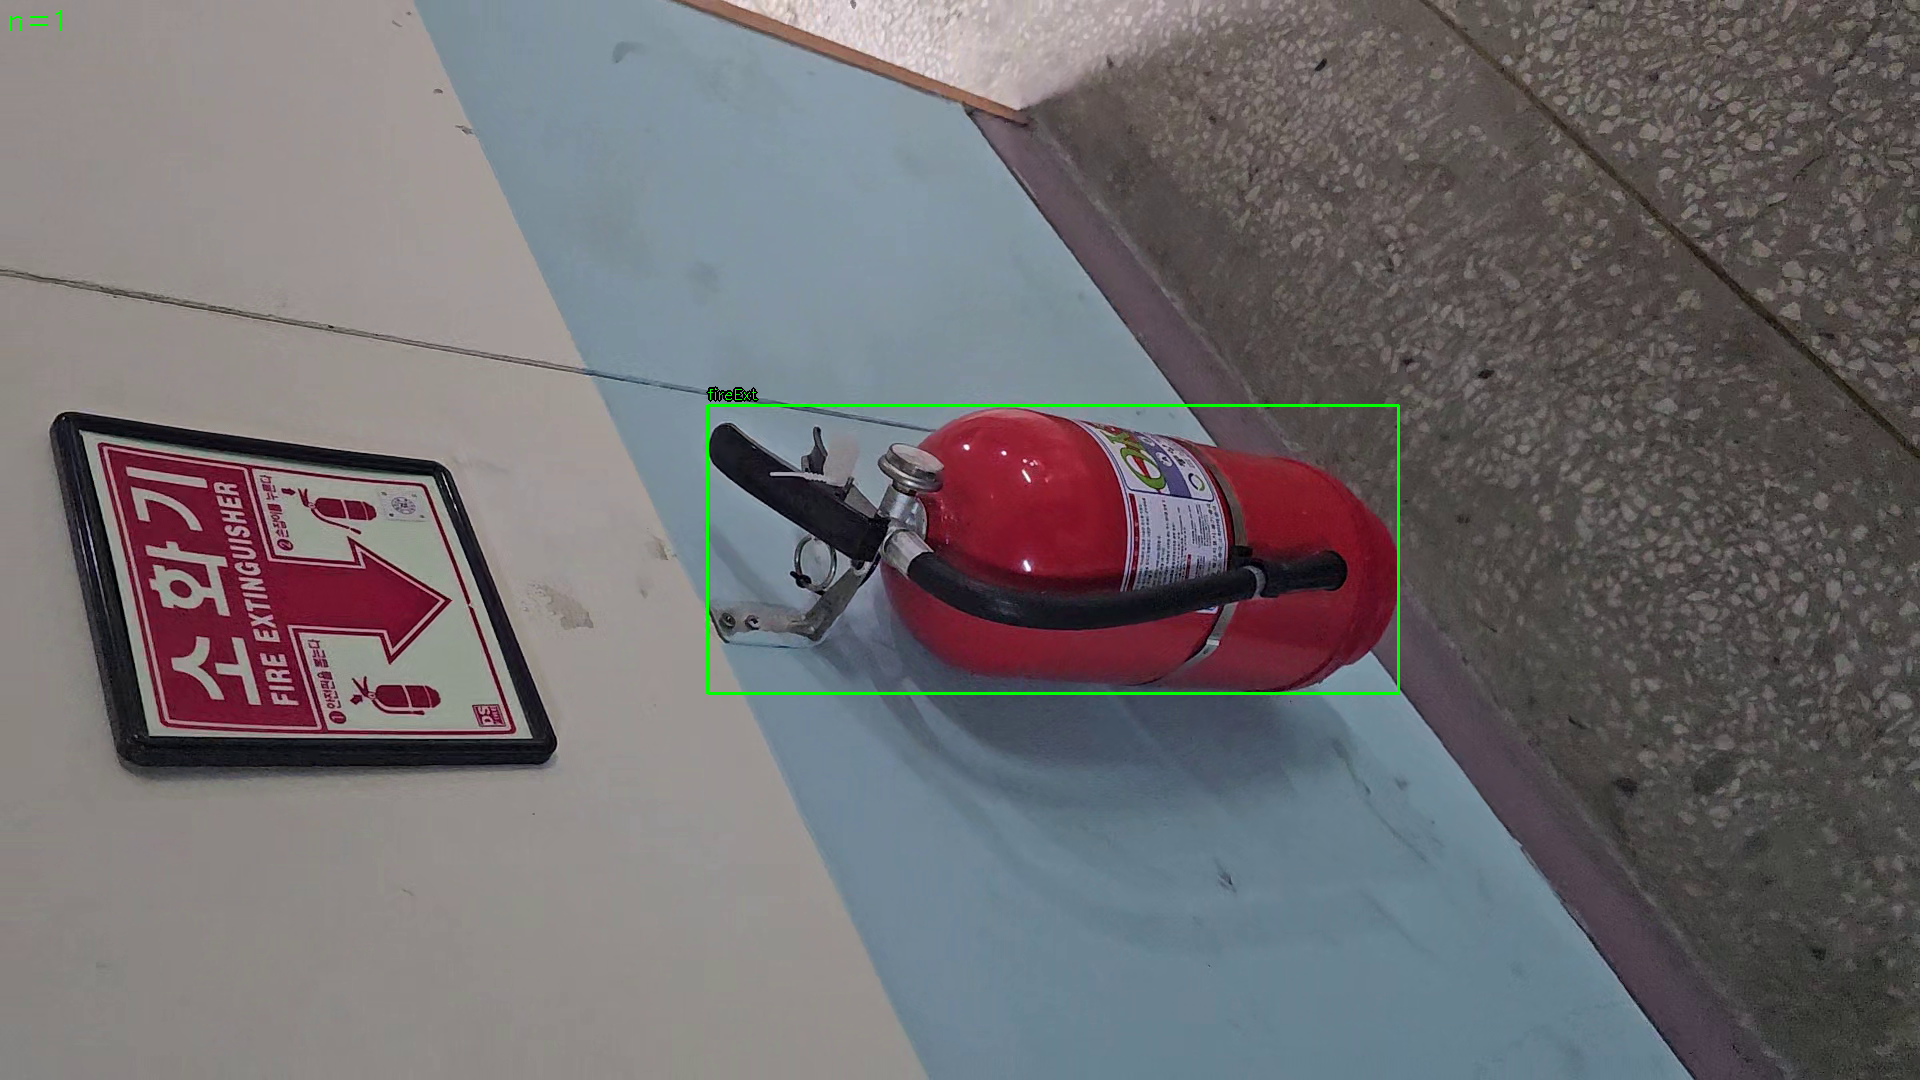lane: (707, 405, 1399, 694)
